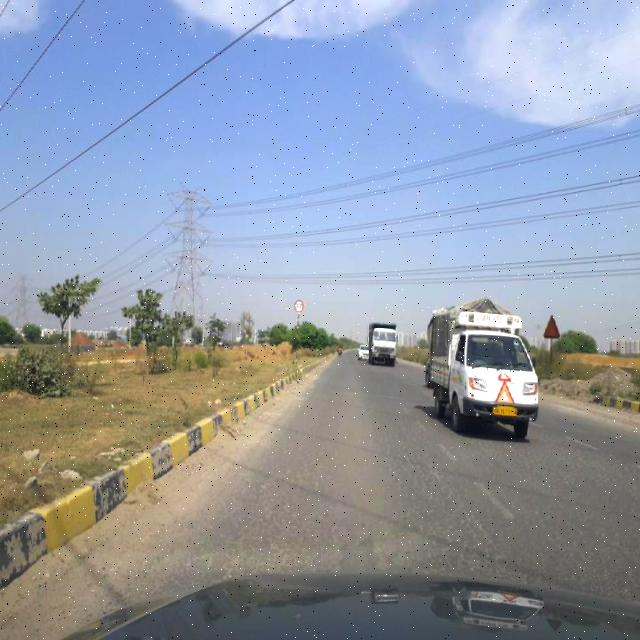D20: (186, 433, 634, 571)
